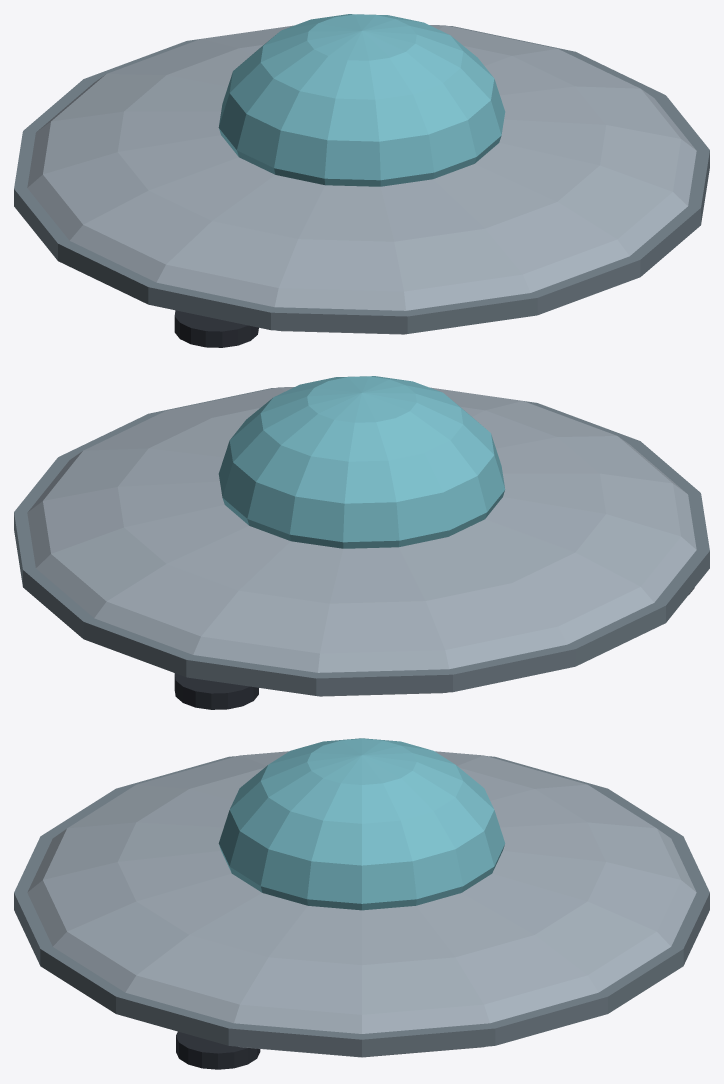
Rendered from ufo.glb.
The picture shows the model from 3 angles, top to bottom: view 1: azimuth 30°, elevation 25°; view 2: azimuth 150°, elevation 25°; view 3: azimuth 270°, elevation 25°; orthographic projection.
Parts seen in each view (by area): view 1: Saucer, Central_dome, Outer_rim, Light_holder_1; view 2: Saucer, Central_dome, Outer_rim, Light_holder_2; view 3: Saucer, Central_dome, Outer_rim, Light_holder_0.
Boxes of the visible parts, bbox=[...] form: Saucer: bbox=[27, 25, 696, 334]; Central_dome: bbox=[218, 14, 505, 186]; Outer_rim: bbox=[14, 26, 709, 333]; Light_holder_1: bbox=[174, 310, 258, 347]; Saucer: bbox=[27, 387, 696, 696]; Central_dome: bbox=[218, 376, 505, 548]; Outer_rim: bbox=[14, 388, 709, 695]; Light_holder_2: bbox=[174, 673, 258, 709]; Saucer: bbox=[27, 751, 696, 1057]; Central_dome: bbox=[218, 738, 505, 910]; Outer_rim: bbox=[14, 756, 709, 1056]; Light_holder_0: bbox=[176, 1031, 260, 1069].
Size of the model in its own units: 5.44 by 1.74 by 5.44.
